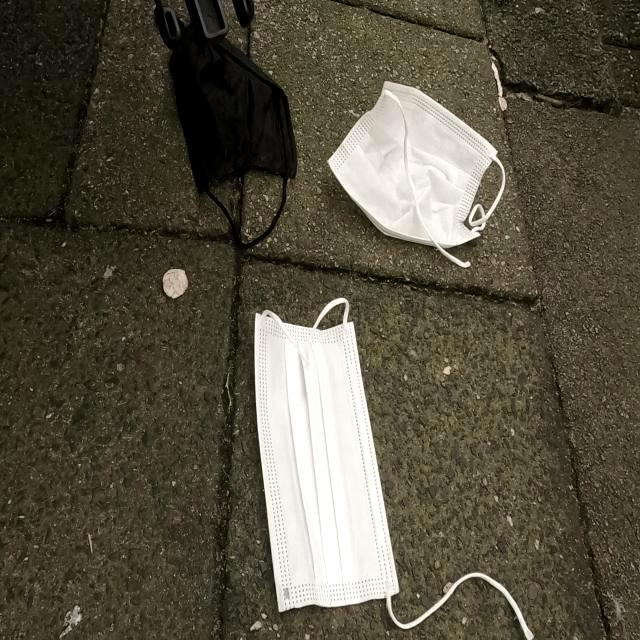Mask: (249, 294, 421, 620), (334, 78, 510, 264)
